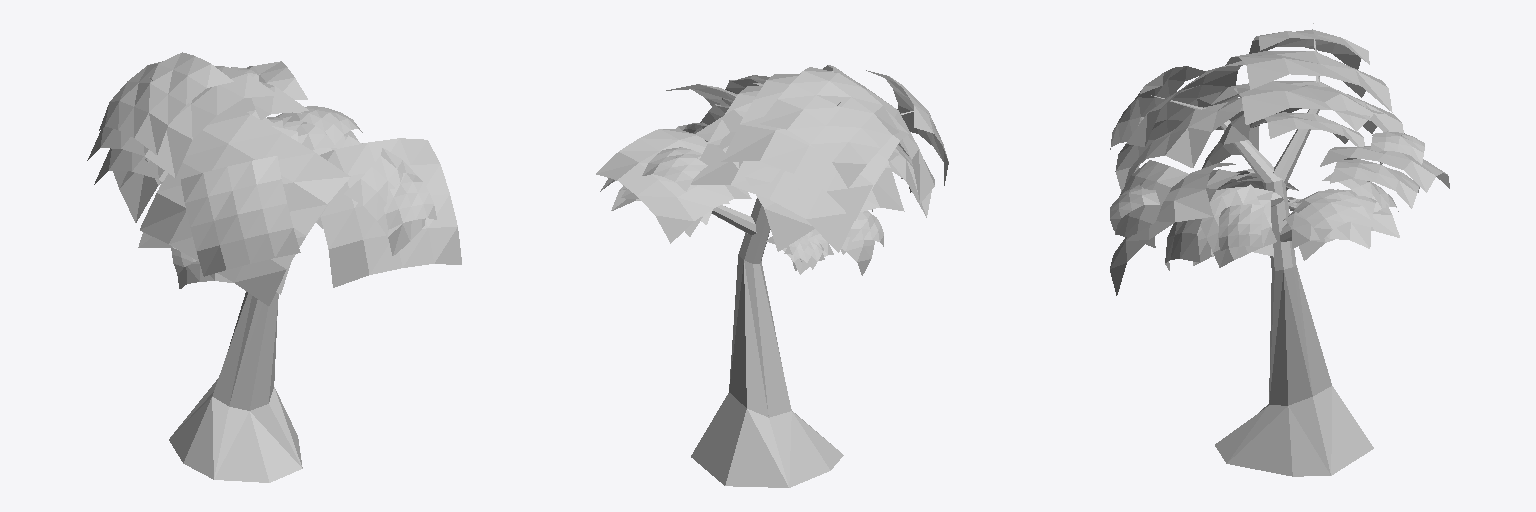
The model's file is game_tree4.obj.
3 renders of one model, left to right at view 1: azimuth 30°, elevation 25°; view 2: azimuth 150°, elevation 25°; view 3: azimuth 270°, elevation 25°, orthographic.
Visible parts, largest first — view 1: Plane; view 2: Plane; view 3: Plane.
Boxes of the visible parts, x1=… form: Plane: x1=87, y1=52, x2=461, y2=482; Plane: x1=596, y1=65, x2=948, y2=487; Plane: x1=1110, y1=23, x2=1449, y2=476.
Size of the model in its own units: 8.55 by 11.7 by 9.12.